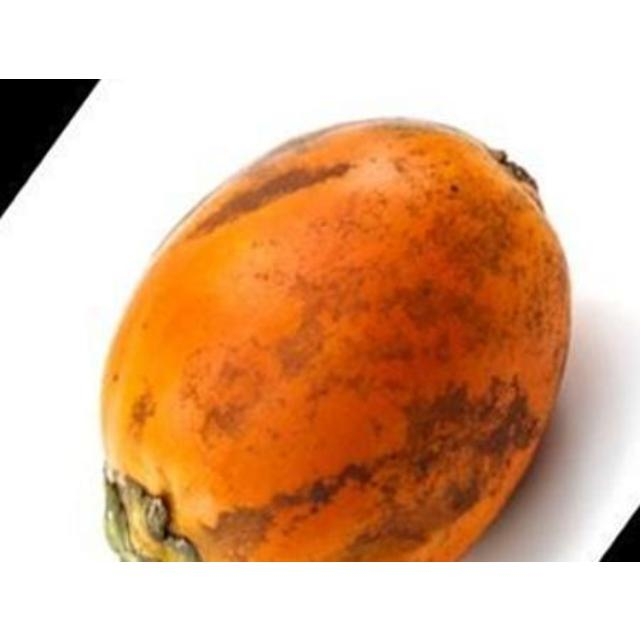good: (97, 119, 572, 560)
